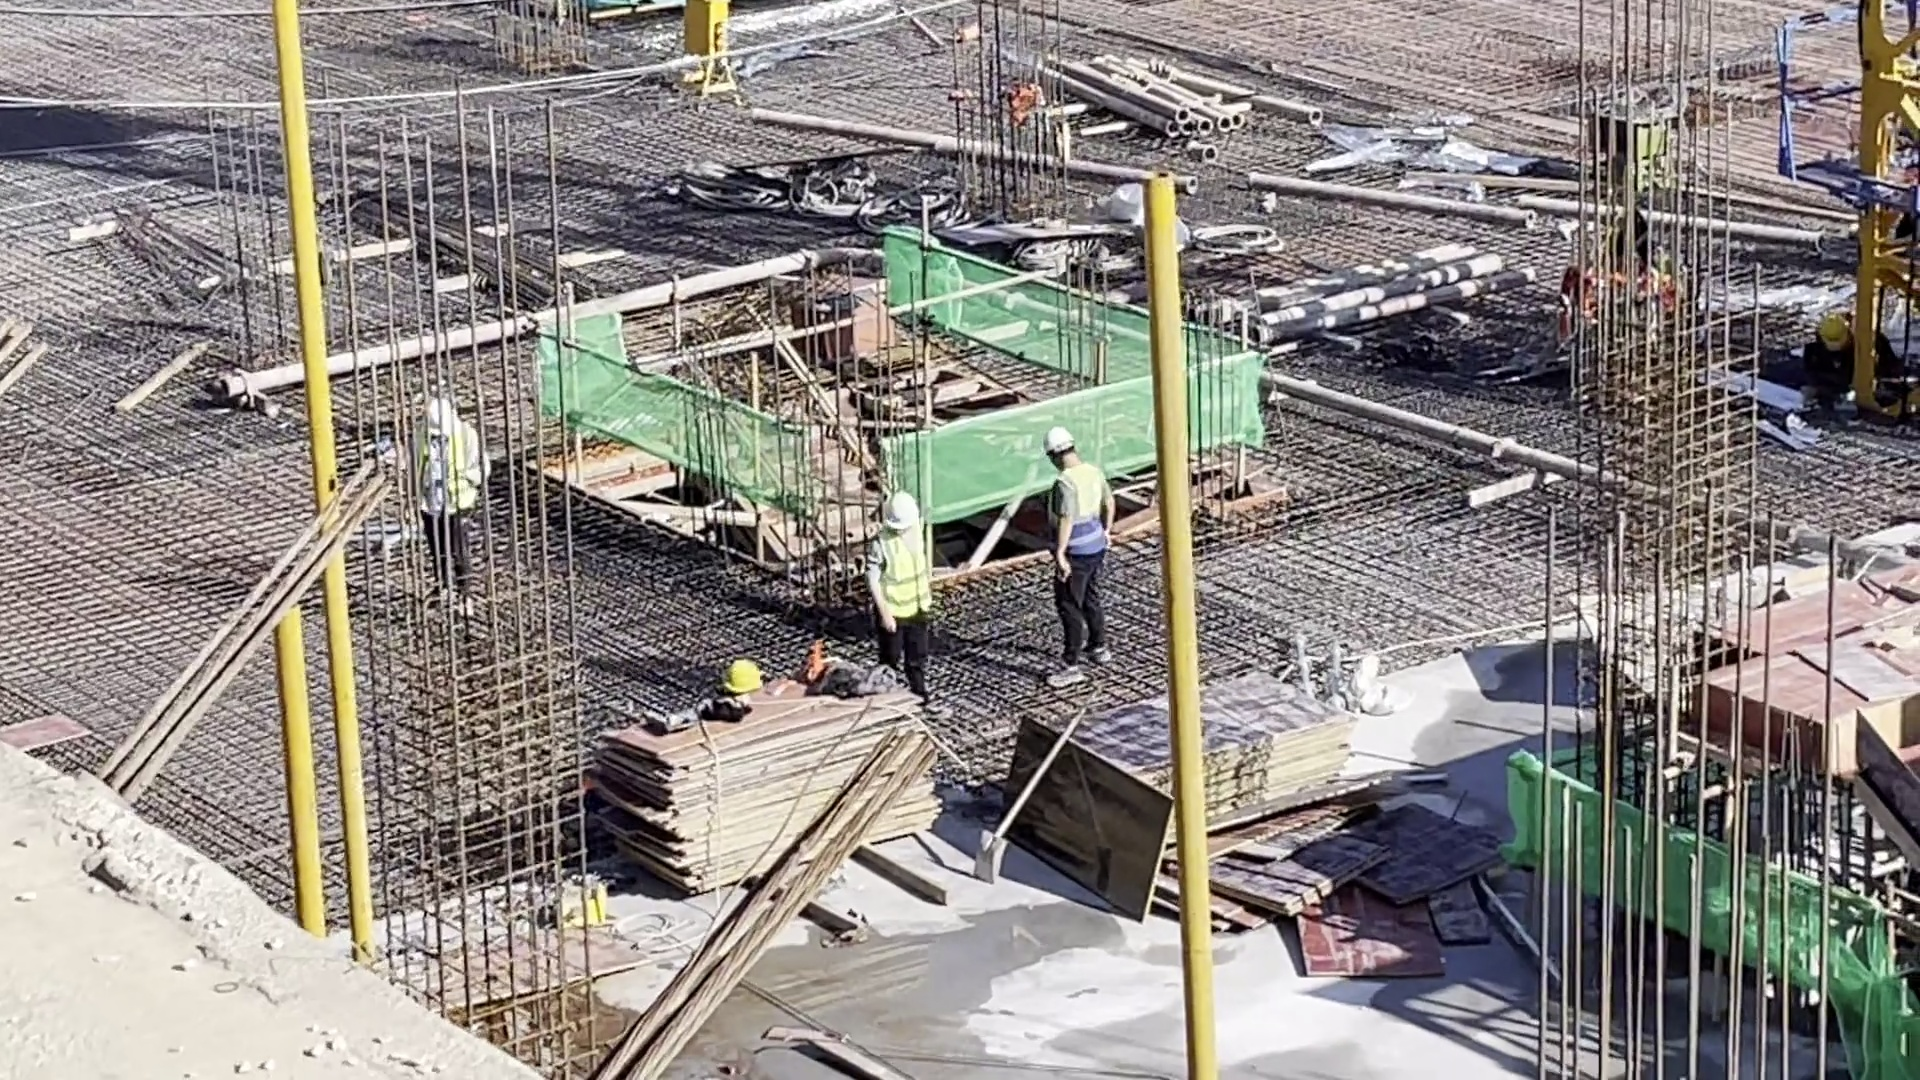helmet: (877, 498, 921, 534), (725, 660, 762, 697), (420, 401, 458, 434), (1814, 312, 1847, 350), (1043, 420, 1073, 457)
person: (1038, 424, 1125, 686), (864, 495, 966, 709), (410, 397, 496, 617), (1798, 306, 1899, 397)
vest: (870, 531, 936, 624), (1051, 464, 1113, 561), (414, 435, 484, 517)
